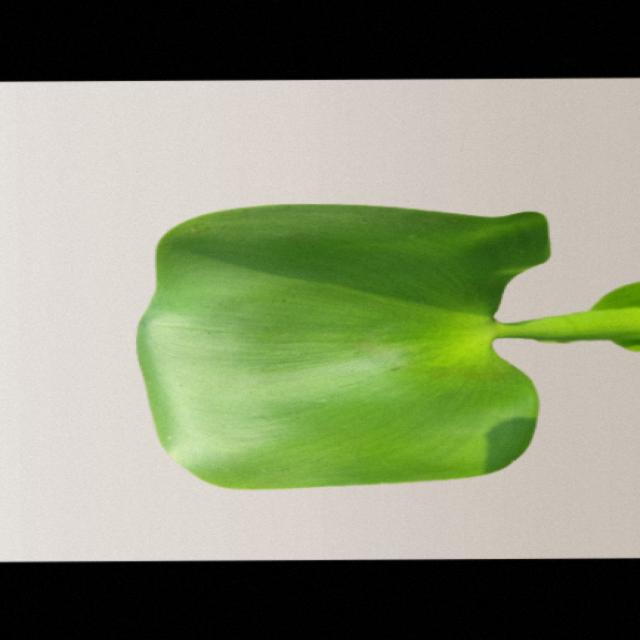daun sehat: (138, 205, 638, 489)
